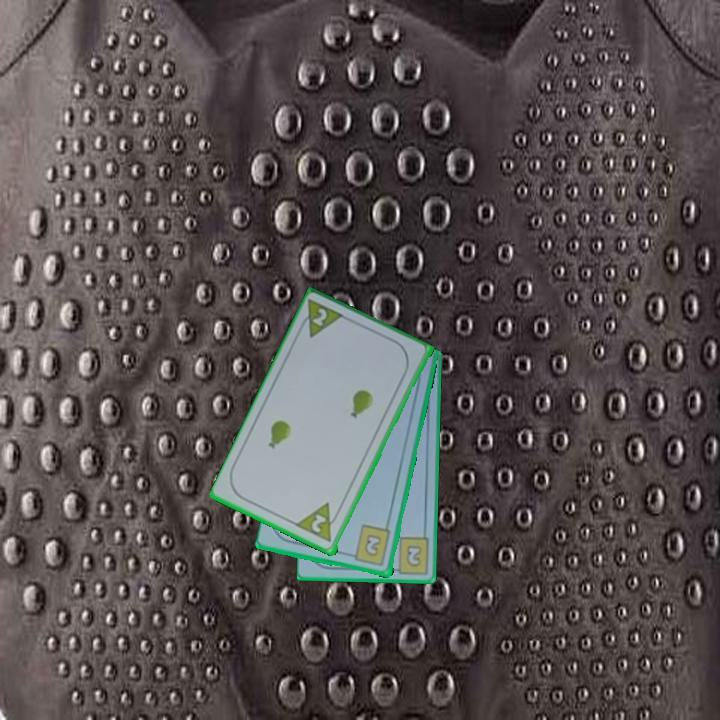2b: (345, 522, 394, 569), (387, 534, 432, 576)
2p: (294, 296, 349, 341), (308, 511, 330, 536)
